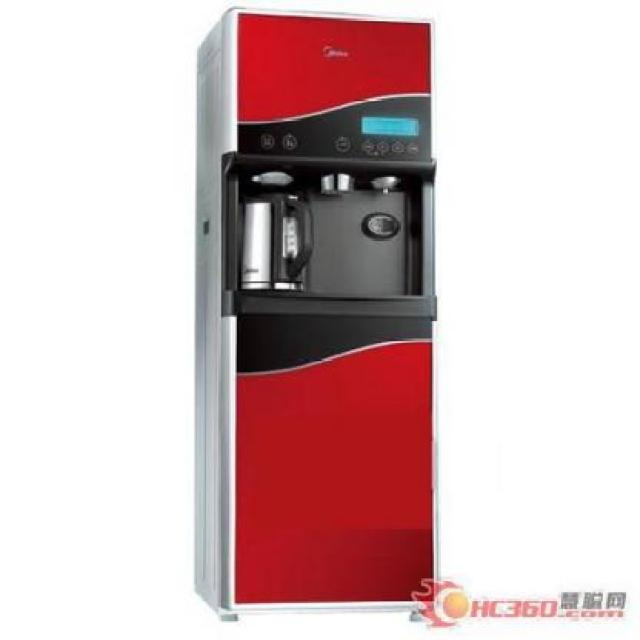cooler: (188, 0, 444, 629)
